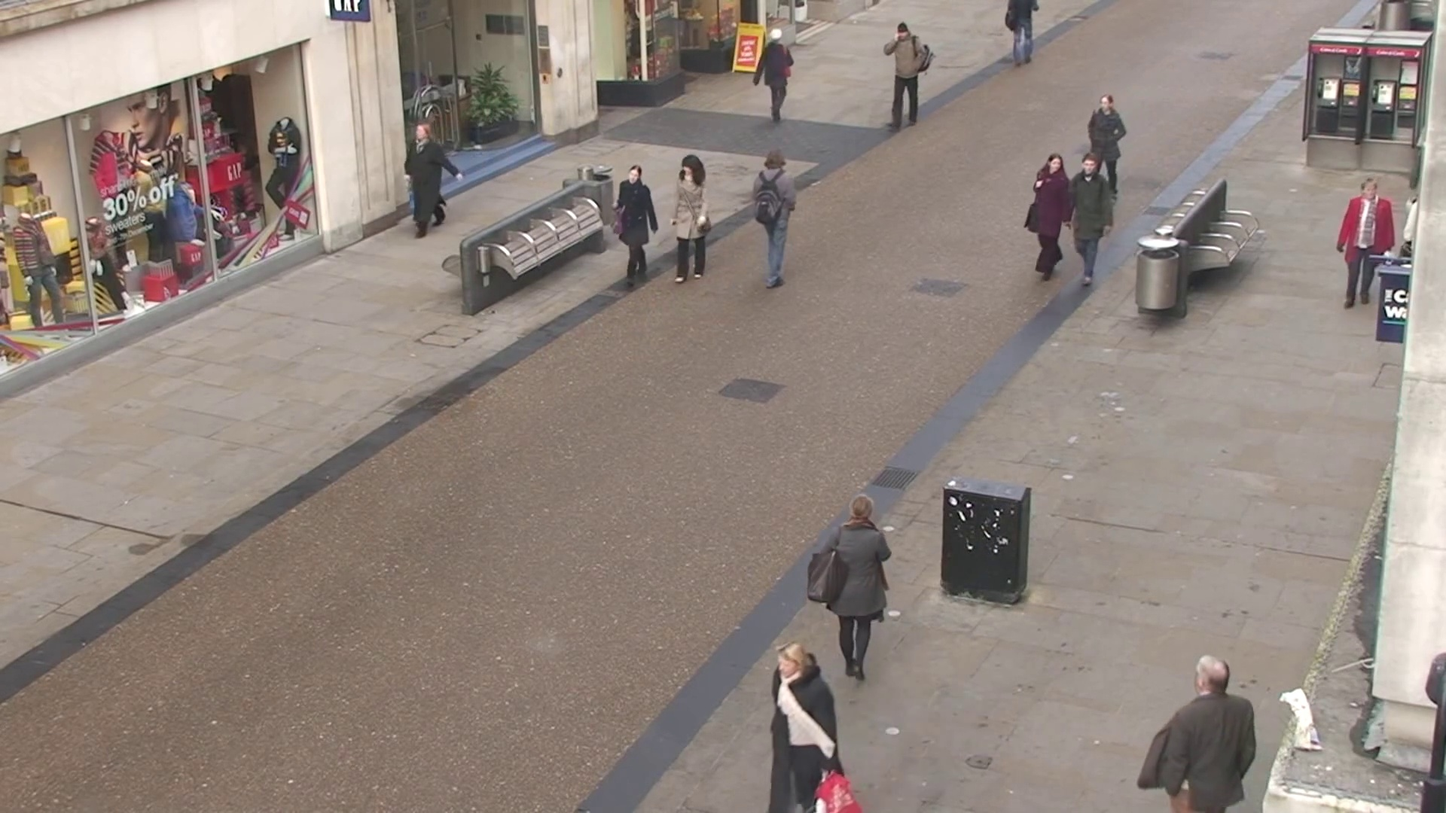person: (1133, 656, 1258, 811), (808, 492, 895, 683), (771, 643, 841, 812), (750, 150, 799, 289), (1024, 154, 1074, 282), (1070, 153, 1117, 285), (881, 20, 932, 129), (1335, 178, 1377, 309), (406, 120, 452, 239), (615, 163, 659, 283), (264, 117, 307, 239), (670, 153, 710, 283), (1086, 91, 1129, 190), (757, 29, 795, 125), (1423, 650, 1445, 786)
